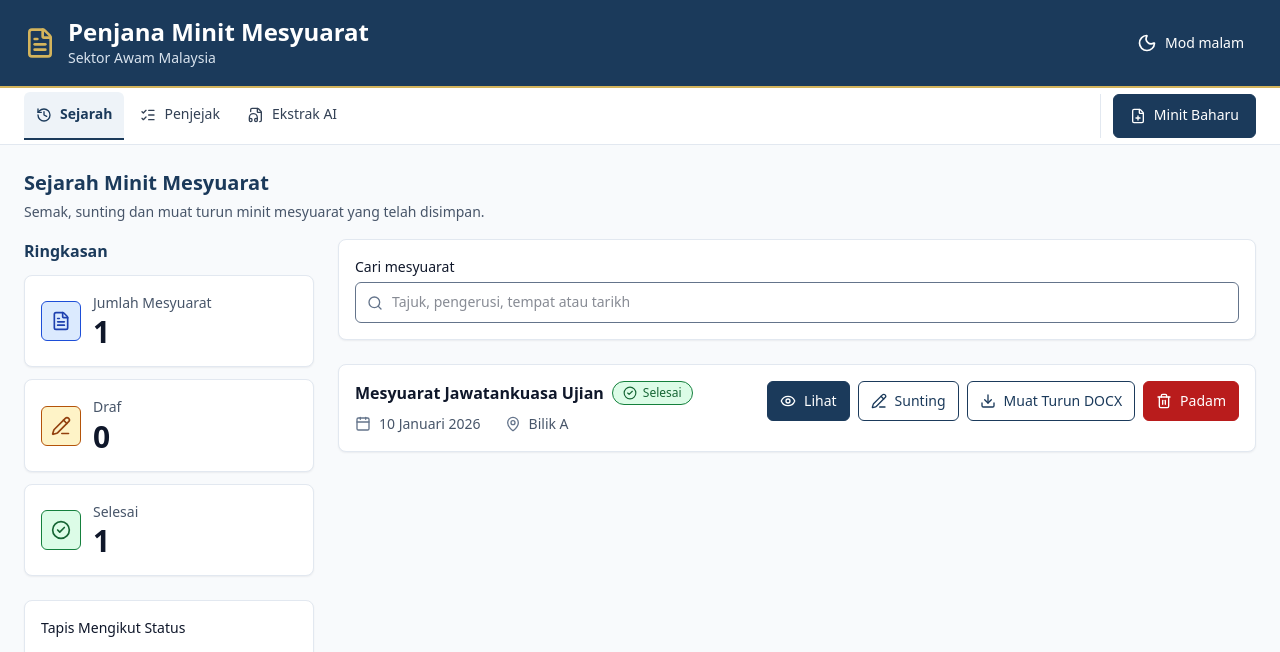
Scenario: API contract: App › Sunting sends the pre-redesign GET /api/meetings/{id}
Step 1. Click the button "Sunting" → (908, 401), box x1=858 y1=381 x2=958 y2=421
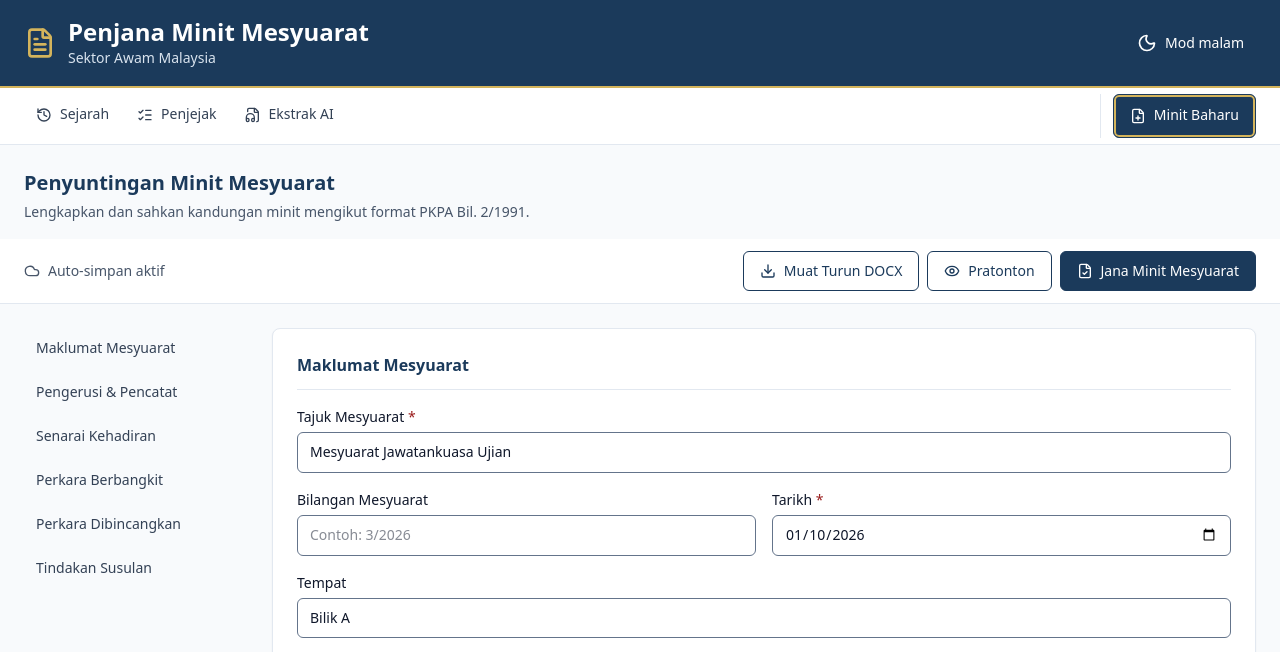
Check: the heading "Penyuntingan Minit Mesyuarat" is shown, box x1=24 y1=169 x2=335 y2=196
